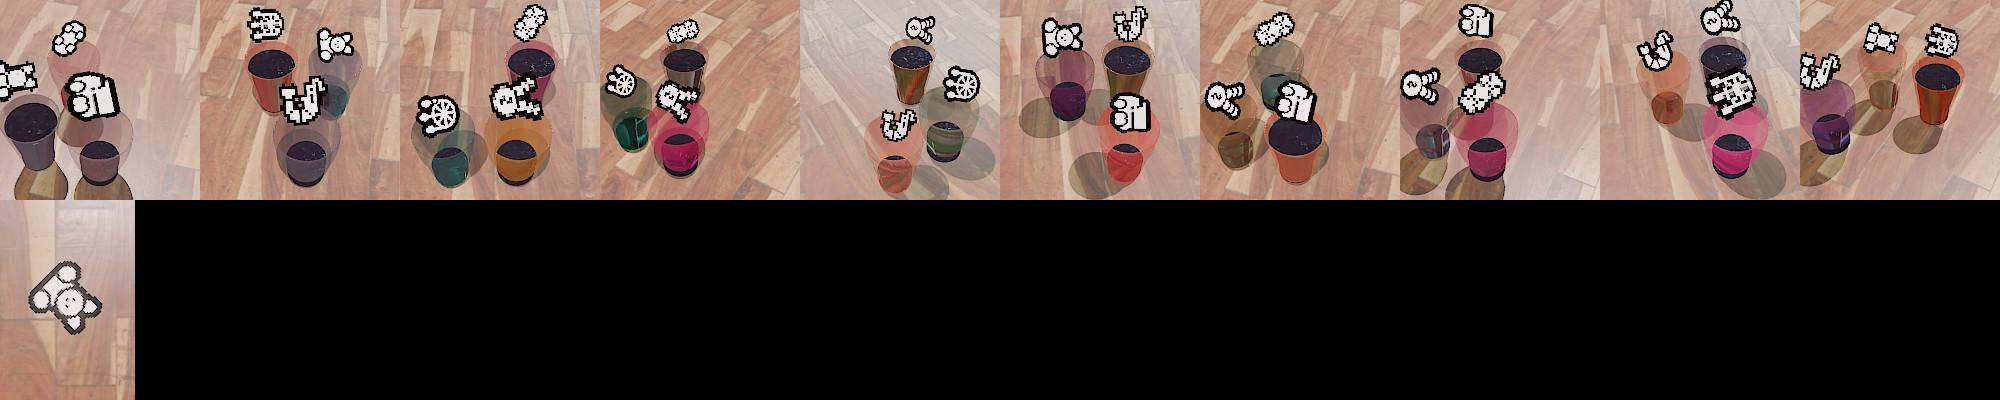icon: (27, 259, 103, 336), (62, 70, 121, 122), (1704, 68, 1756, 118), (489, 76, 546, 121), (278, 71, 325, 125), (1458, 70, 1508, 113), (654, 76, 700, 121), (1272, 80, 1318, 124), (1107, 92, 1151, 134), (1798, 48, 1841, 92), (416, 94, 459, 136), (1042, 17, 1083, 59), (1635, 28, 1675, 71), (0, 57, 40, 101), (1254, 9, 1296, 46), (1402, 66, 1441, 104), (879, 104, 920, 141), (1204, 80, 1242, 118), (941, 65, 981, 102), (1699, 0, 1740, 36), (51, 19, 88, 57), (1111, 4, 1148, 42), (316, 27, 355, 62), (511, 4, 547, 42), (246, 6, 284, 42), (1457, 3, 1494, 38), (1923, 23, 1959, 57), (1862, 22, 1901, 54), (603, 64, 638, 98), (666, 18, 702, 46), (906, 14, 936, 46)
